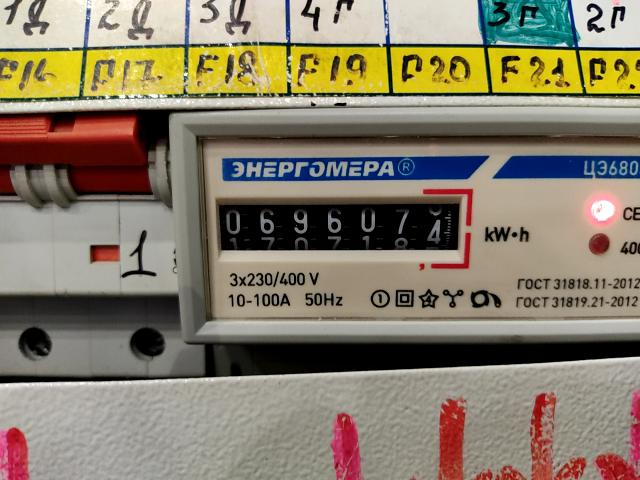0: (223, 208, 244, 236), (360, 205, 378, 234), (259, 208, 276, 234)
4: (426, 218, 443, 246)
6: (325, 205, 343, 235)
7: (393, 206, 411, 235)
9: (292, 207, 310, 235)
screen: (202, 185, 476, 269)
